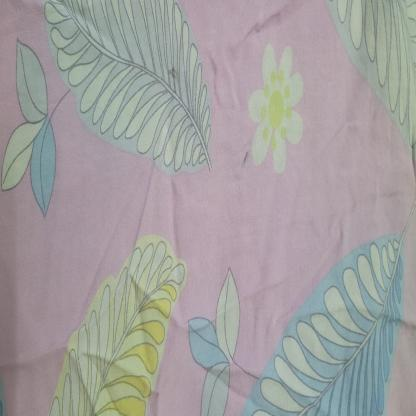spot: (167, 63, 180, 85), (242, 151, 249, 170)
